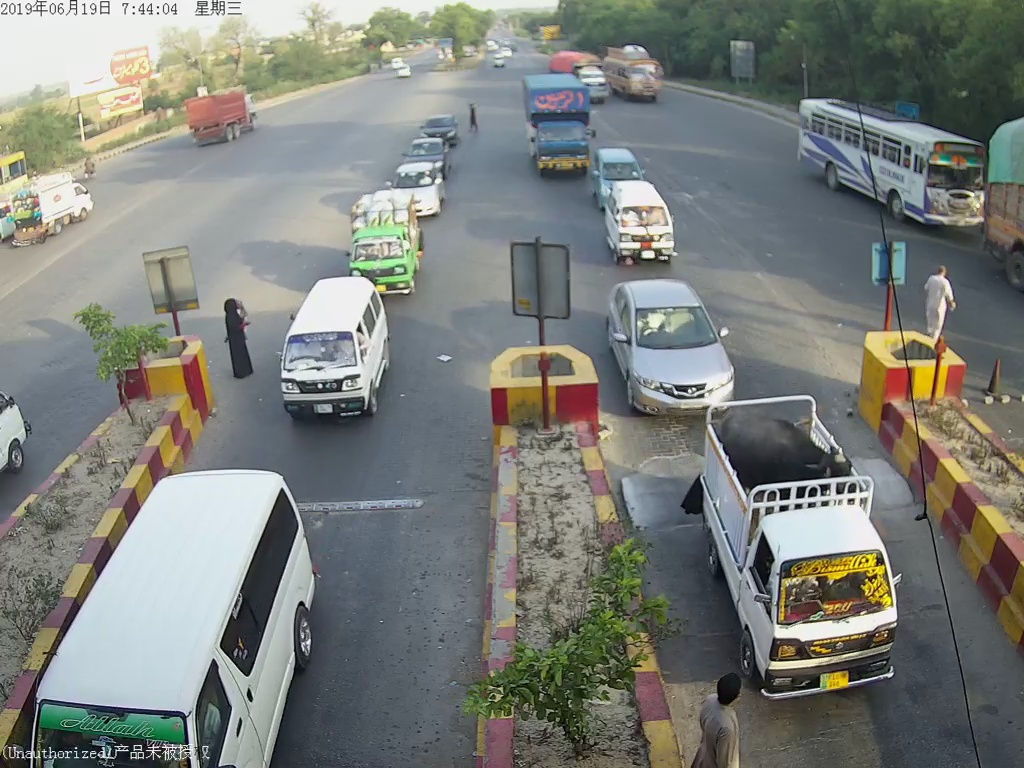Cat-1: (704, 407, 900, 698), (607, 278, 736, 414), (278, 276, 399, 417), (346, 200, 419, 281), (607, 181, 675, 263)
Cat-2: (524, 83, 590, 181)
